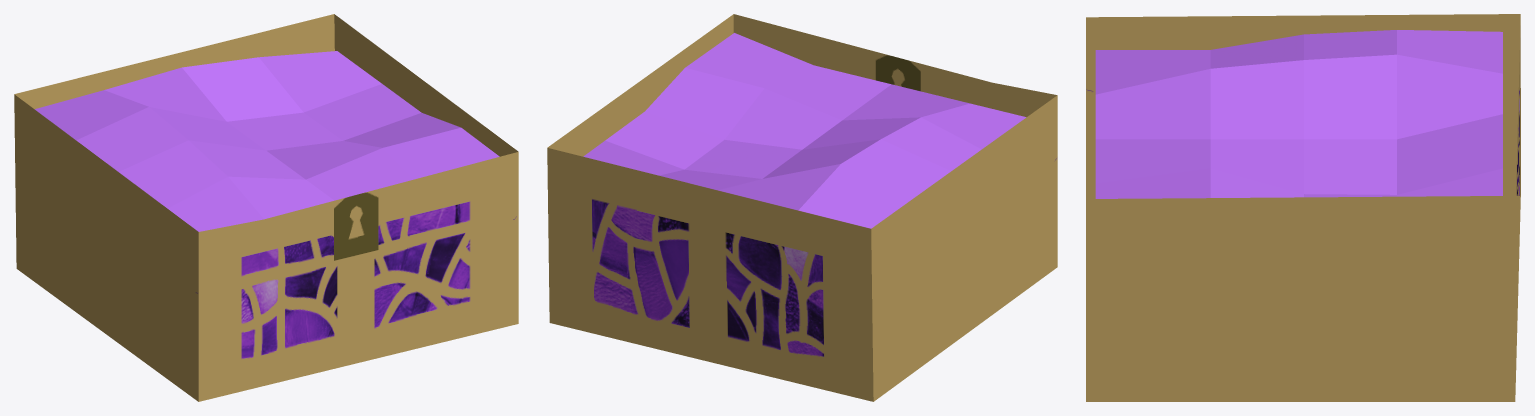
Rendered from chestBottom2.glb.
The picture shows the model from 3 angles, left to right: view 1: azimuth 30°, elevation 25°; view 2: azimuth 150°, elevation 25°; view 3: azimuth 270°, elevation 25°; orthographic projection. The views are drawn at different scales.
Visible parts, largest first — view 1: Cube; view 2: Cube; view 3: Cube.
Part boxes in pixels (<box>): Cube: <box>14,14,518,401</box>; Cube: <box>547,14,1057,401</box>; Cube: <box>1086,14,1520,401</box>.
Size of the model in its own units: 1 by 0.5329 by 0.9975.
2 materials, 1 textured.
